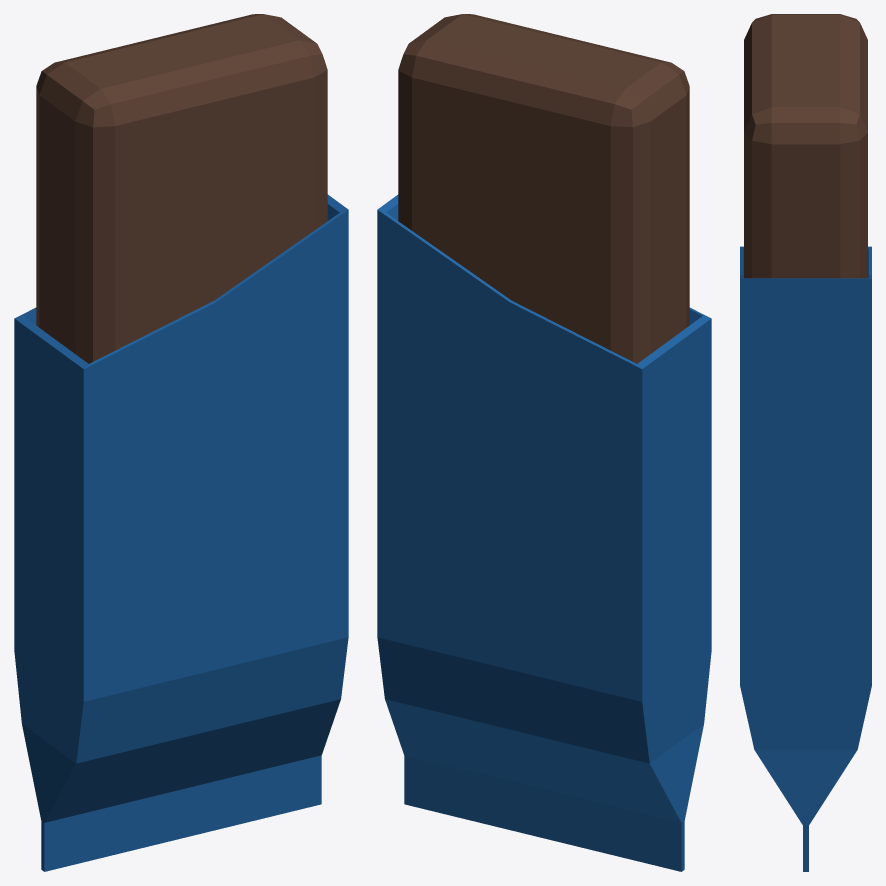
The model's file is Chocolate_A.fbx.
The picture shows the model from 3 angles, left to right: view 1: azimuth 30°, elevation 25°; view 2: azimuth 150°, elevation 25°; view 3: azimuth 270°, elevation 25°; orthographic projection. The views are drawn at different scales.
Visible parts, largest first — view 1: Chocolate_A; view 2: Chocolate_A; view 3: Chocolate_A.
Boxes of the visible parts, x1=… form: Chocolate_A: x1=14, y1=14, x2=348, y2=871; Chocolate_A: x1=377, y1=14, x2=711, y2=871; Chocolate_A: x1=740, y1=14, x2=871, y2=871.
Bounding box in the file's own units: 3.15 × 8.53 × 1.37.
